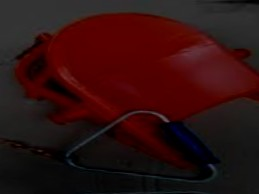chock: (6, 7, 259, 183)
